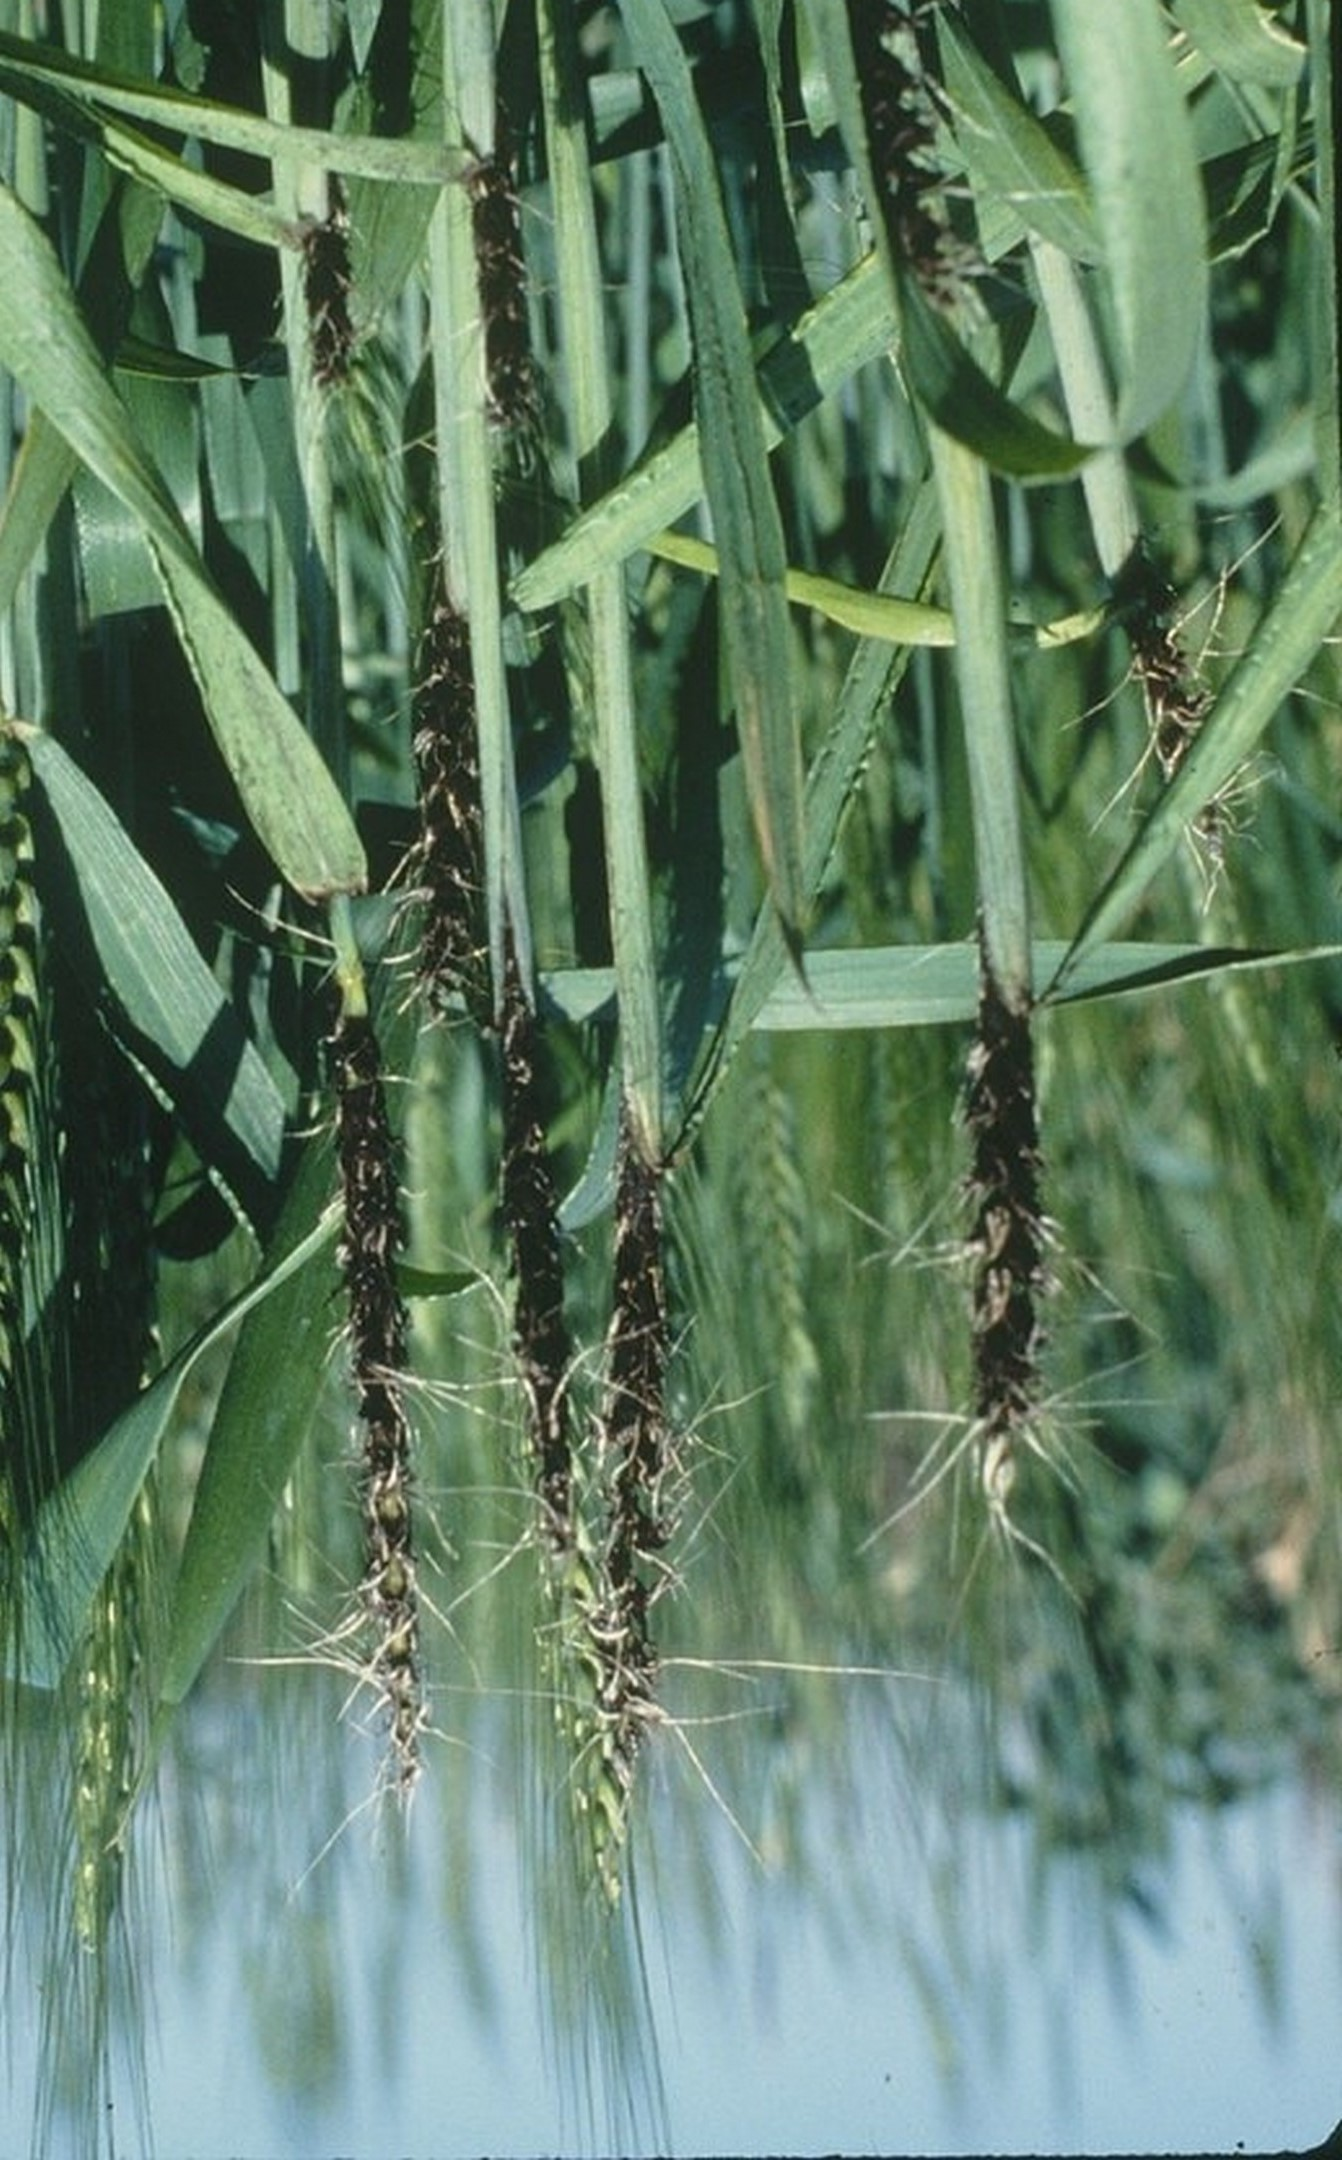Wheat Loose Smut: (226, 652, 1139, 1801)
